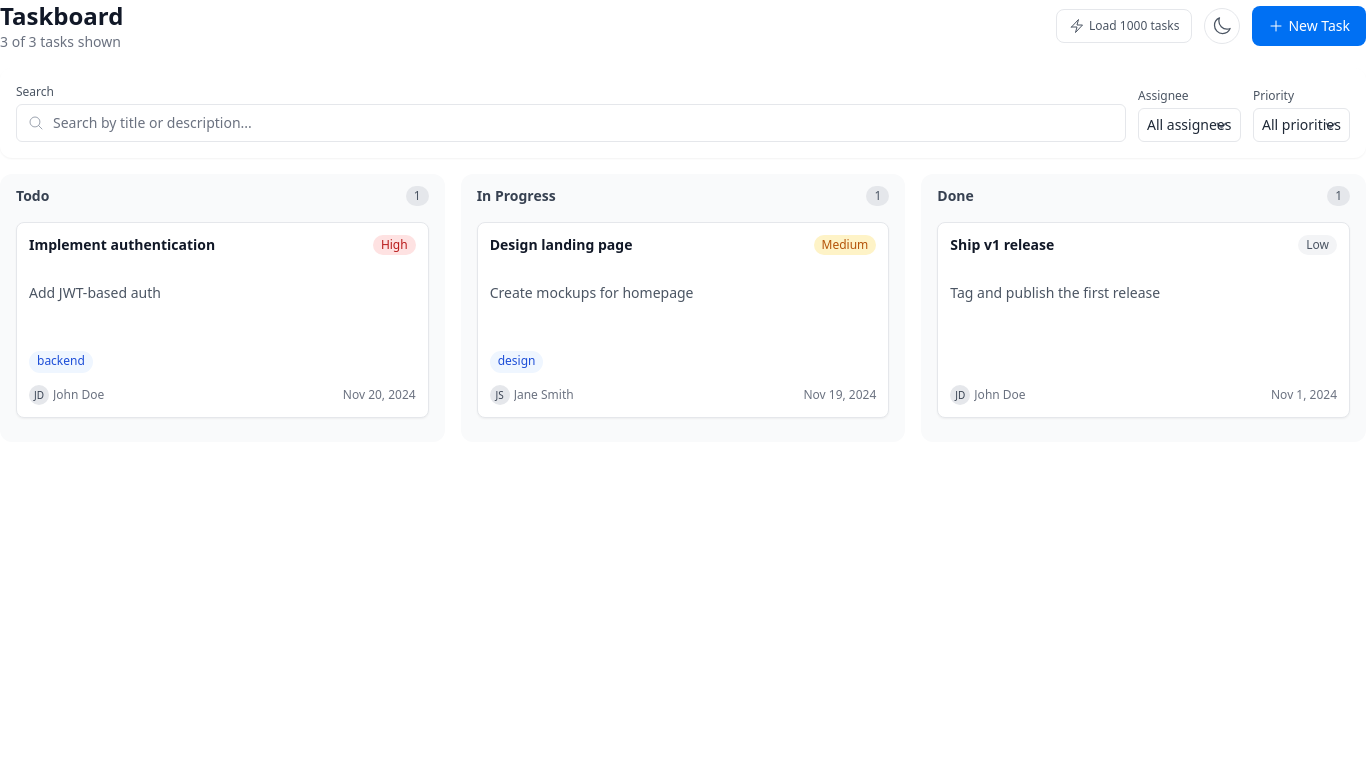
Scenario: TaskBoard › editing and deleting tasks › discards edits when the modal is cancelled
This screenshot has width=1366, height=768.
Click the list item with test id "task-card-1": (222,320) [16,222,429,418]
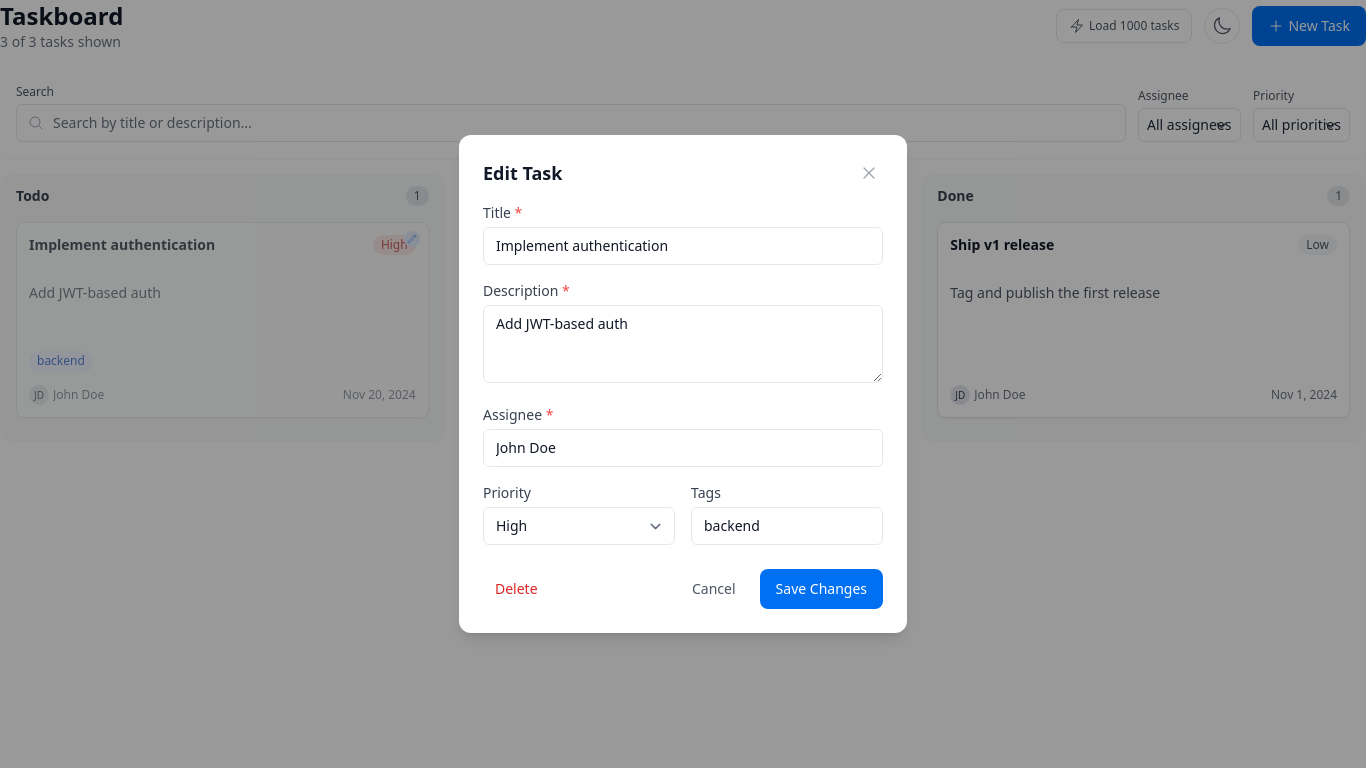
Replace the text in the field labelled "Title *" with "This should not be saved": (683,246) [483,227,883,265]
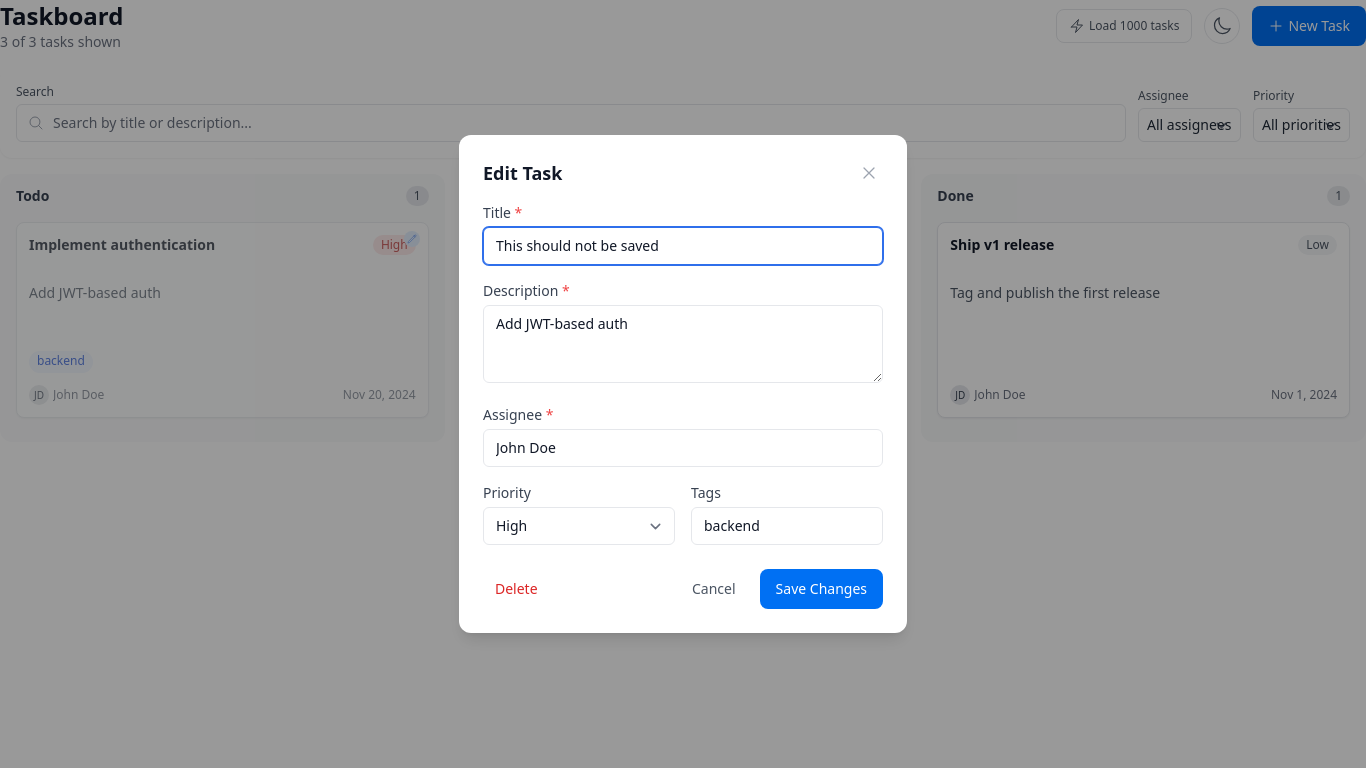
Click the button "Cancel": (714,589) [676,569,752,609]
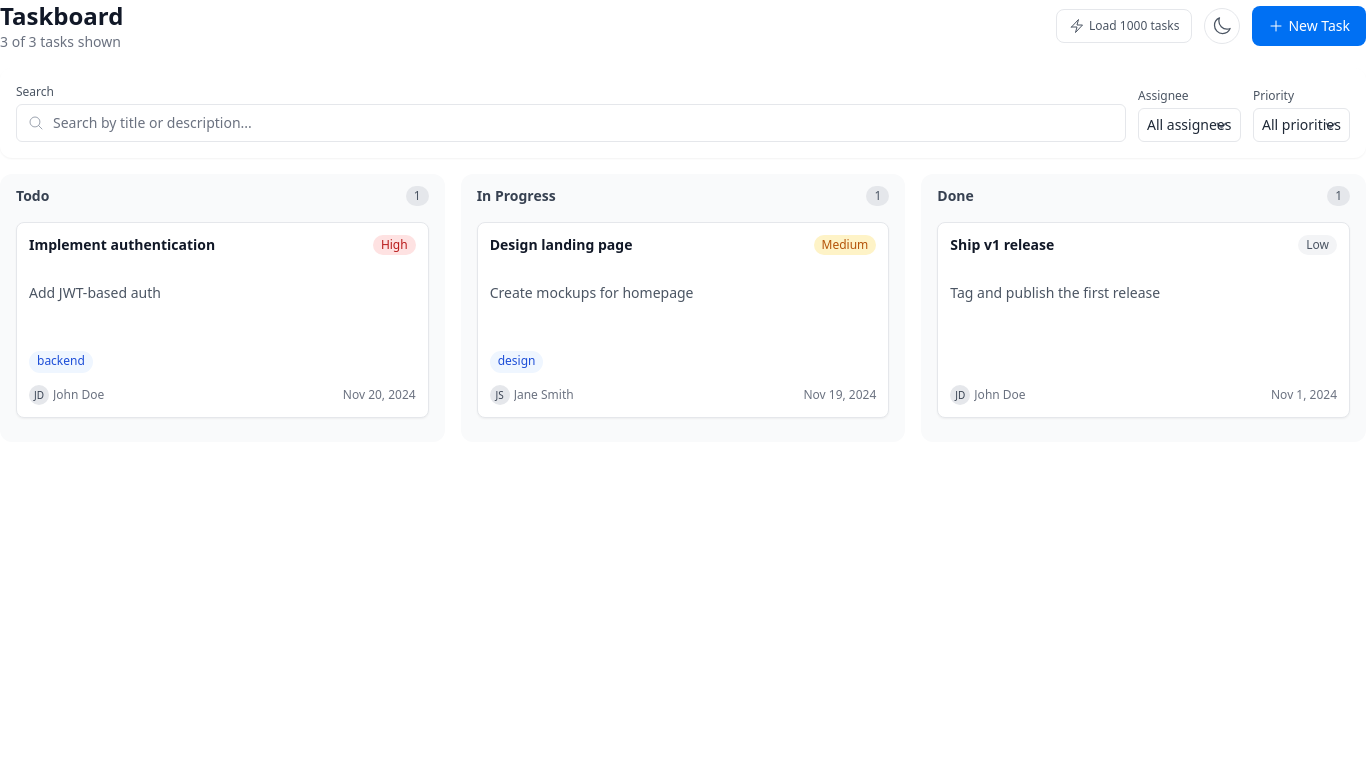
Expected: the heading "Implement authentication" is shown, [29,235,215,254]
Now the dialog is gone
